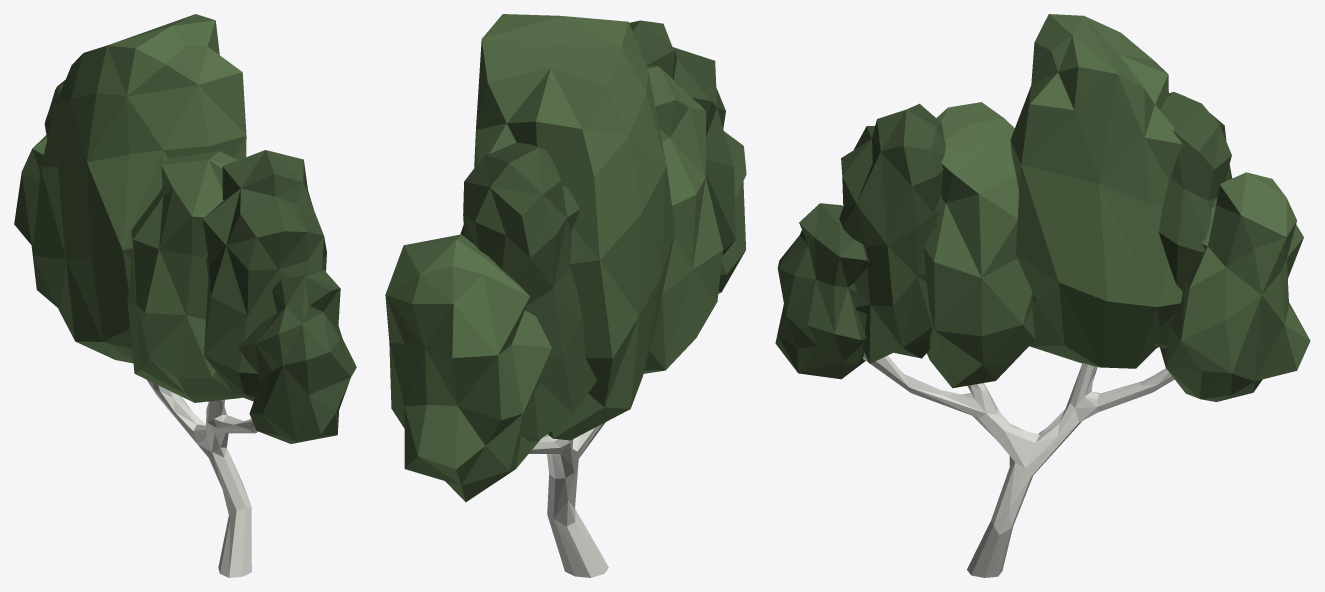
The model's file is BirchTree_4.lod1.glb.
3 renders of one model, left to right at view 1: azimuth 30°, elevation 25°; view 2: azimuth 150°, elevation 25°; view 3: azimuth 270°, elevation 25°, orthographic. The views are drawn at different scales.
Visible parts, largest first — view 1: BirchTree_4; view 2: BirchTree_4; view 3: BirchTree_4.
Part boxes in pixels (x1,y1,x2,y2): BirchTree_4: (14, 14, 356, 577); BirchTree_4: (385, 14, 746, 577); BirchTree_4: (775, 14, 1310, 577).
Size of the model in its own units: 1.15 by 3.56 by 3.29.
